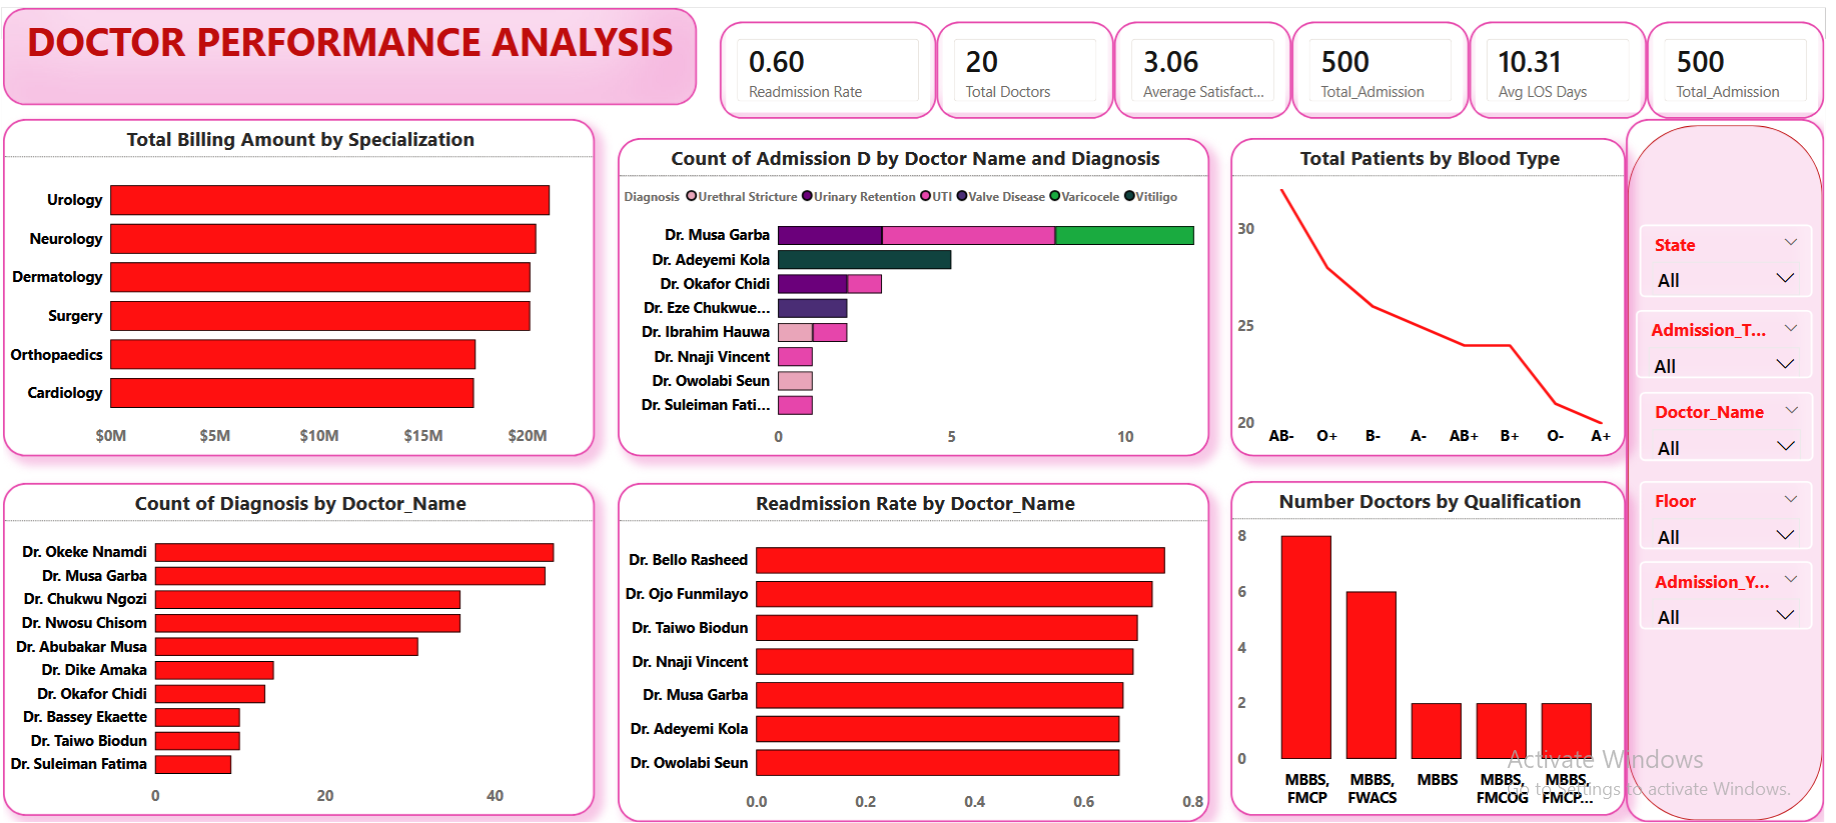

The page's visual inventory and layout, read from the dashboard file:
{"tool":"powerbi","page":{"name":"Page 4","canvas":[2000,895],"ordinal":3},"visuals":[{"type":"shape","box":[1781.7,121.7,218.3,773.3],"z":0},{"type":"cardVisual","fields":{"Data":["_measure.Total Doctors"]},"box":[1025,15,195,106.7],"z":1000},{"type":"cardVisual","fields":{"Data":["_measure.Average Satisfaction"]},"box":[1220,15,195,106.7],"z":2000},{"type":"cardVisual","fields":{"Data":["Avg(Admissions.LOS_Days)"]},"box":[1610,15,195,106.7],"z":3000},{"type":"cardVisual","fields":{"Data":["_measure.Total_Admission"]},"box":[1415,15,195,106.7],"z":4000},{"type":"cardVisual","fields":{"Data":["_measure.Readmission Rate"]},"box":[786.7,15,238.3,106.7],"z":5000},{"type":"barChart","fields":{"Category":["Doctors.Doctor_Name"],"Y":["CountNonNull(Admissions.Diagnosis)"]},"box":[0,521.7,650,366.7],"z":6000},{"type":"clusteredBarChart","fields":{"Category":["Doctors.Specialization"],"Y":["_measure.Total Billing Amount"]},"box":[0,121.7,650,371.7],"z":7000},{"type":"columnChart","fields":{"Category":["Doctors.Qualification"],"Y":["CountNonNull(Doctors.Doctor_Name)"]},"box":[1348.3,520,433.3,368.3],"z":8000},{"type":"clusteredBarChart","fields":{"Category":["Doctors.Doctor_Name"],"Y":["_measure.Readmission Rate"]},"box":[675,521.7,650,373.3],"z":9000},{"type":"barChart","fields":{"Category":["Doctors.Doctor_Name"],"Series":["Admissions.Diagnosis"],"Y":["CountNonNull(Admissions.Admission_ID)"]},"box":[675,143.3,650,350],"z":10000},{"type":"lineChart","fields":{"Category":["Patients.Blood_Type"],"Y":["_measure.Total Patients"]},"box":[1348.3,143.3,433.3,350],"z":11000},{"type":"textbox","box":[0,0,761.7,106.7],"z":12000},{"type":"slicer","fields":{"Values":["Admissions.Admission_Year"]},"box":[1796.7,608.3,190,75],"z":13000},{"type":"slicer","fields":{"Values":["Doctors.Doctor_Name"]},"box":[1796.7,421.7,191.7,76.7],"z":14000},{"type":"slicer","fields":{"Values":["Admissions.Admission_Type"]},"box":[1793.3,331.7,193.3,75],"z":15000},{"type":"slicer","fields":{"Values":["Wards.Floor"]},"box":[1796.7,520,190,75],"z":16000},{"type":"slicer","fields":{"Values":["Patients.State"]},"box":[1796.7,238.3,190,80],"z":17000},{"type":"cardVisual","fields":{"Data":["_measure.Total_Admission"]},"box":[1805,15,195,106.7],"z":18000}]}

Visuals, with their boxes in screenshot pixels (x1, y1, x2, y2), scaled from the page's 2000x895 canvas onto the 1836x823 screenshot:
shape: 1636:112:1835:822
cardVisual - _measure.Total Doctors: 941:14:1120:112
cardVisual - _measure.Average Satisfaction: 1120:14:1299:112
cardVisual - Avg(Admissions.LOS_Days): 1478:14:1657:112
cardVisual - _measure.Total_Admission: 1299:14:1478:112
cardVisual - _measure.Readmission Rate: 722:14:941:112
barChart - Doctors.Doctor_Name x CountNonNull(Admissions.Diagnosis): 0:480:597:817
clusteredBarChart - Doctors.Specialization x _measure.Total Billing Amount: 0:112:597:454
columnChart - Doctors.Qualification x CountNonNull(Doctors.Doctor_Name): 1238:478:1636:817
clusteredBarChart - Doctors.Doctor_Name x _measure.Readmission Rate: 620:480:1216:822
barChart - Doctors.Doctor_Name x Admissions.Diagnosis: 620:132:1216:454
lineChart - Patients.Blood_Type x _measure.Total Patients: 1238:132:1636:454
textbox: 0:0:699:98
slicer - Admissions.Admission_Year: 1649:559:1824:628
slicer - Doctors.Doctor_Name: 1649:388:1825:458
slicer - Admissions.Admission_Type: 1646:305:1824:374
slicer - Wards.Floor: 1649:478:1824:547
slicer - Patients.State: 1649:219:1824:293
cardVisual - _measure.Total_Admission: 1657:14:1835:112
